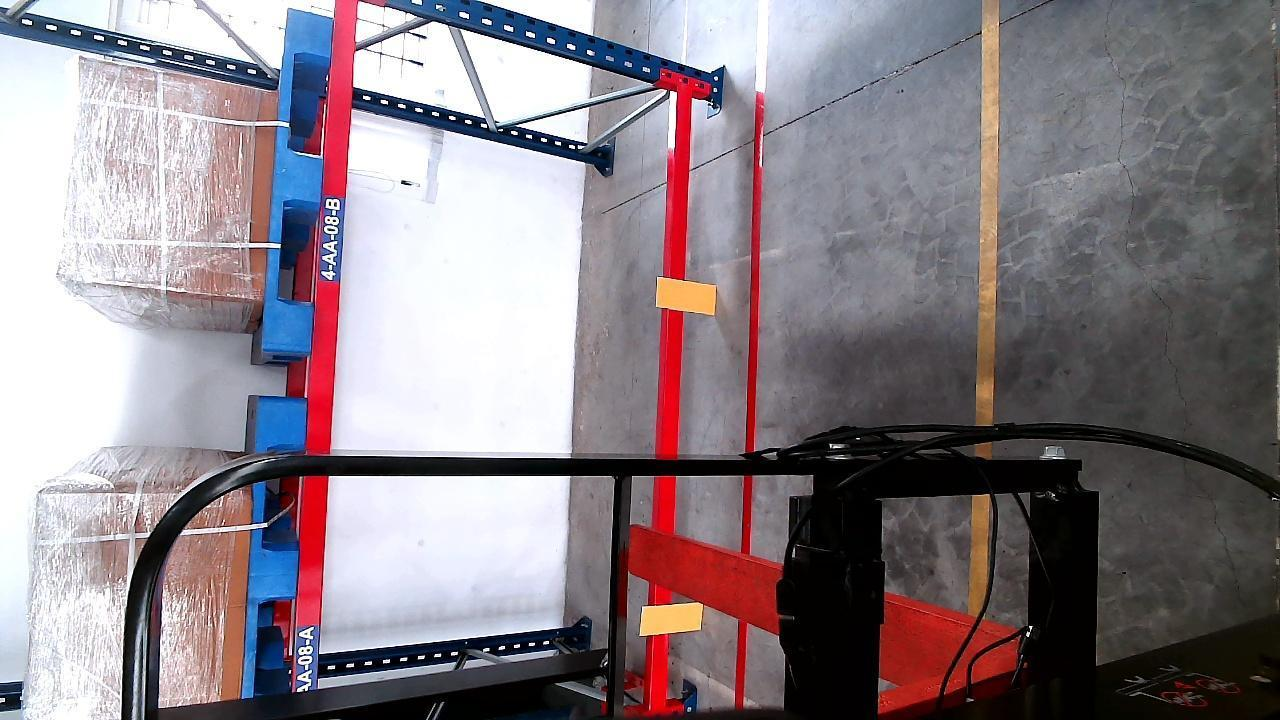h_rack: (299, 0, 357, 692), (651, 93, 695, 714)
orange_strip: (643, 601, 705, 636), (658, 277, 717, 312)
red_line: (736, 45, 765, 711)
small_pallet: (265, 9, 330, 358), (240, 398, 305, 698)
yellow_line: (970, 0, 1002, 618)
